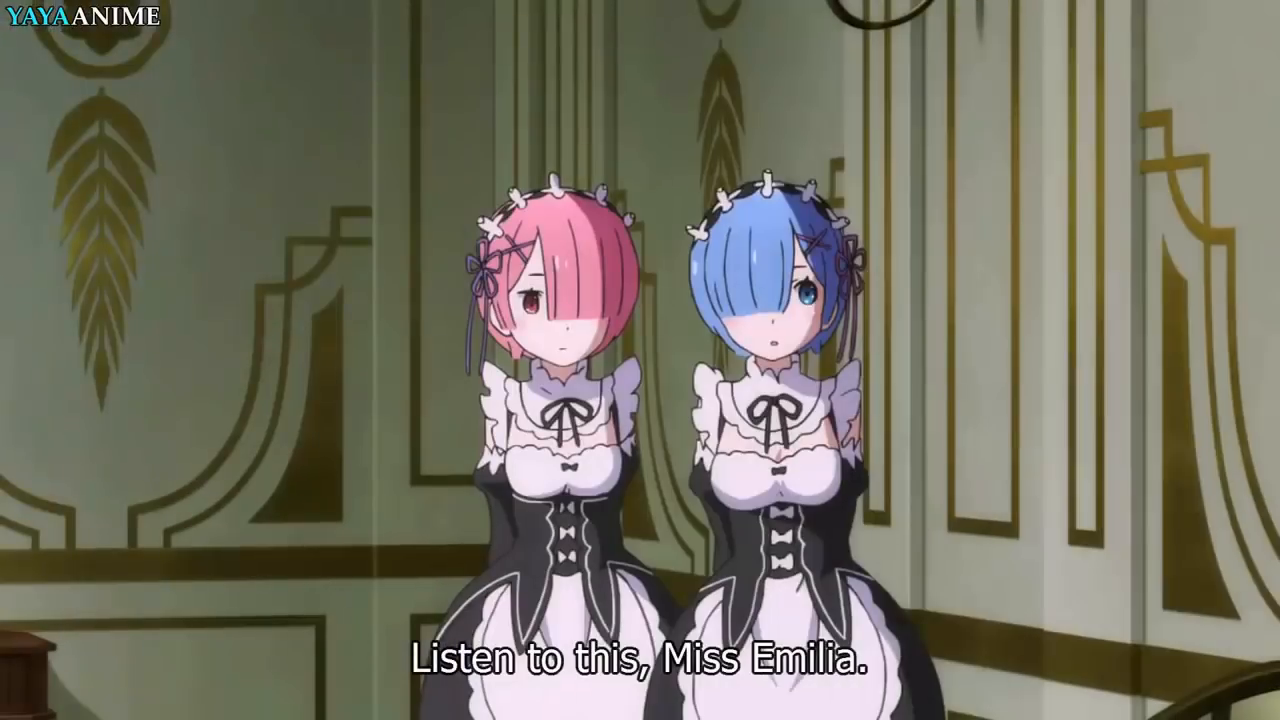REM: (687, 180, 856, 362)
